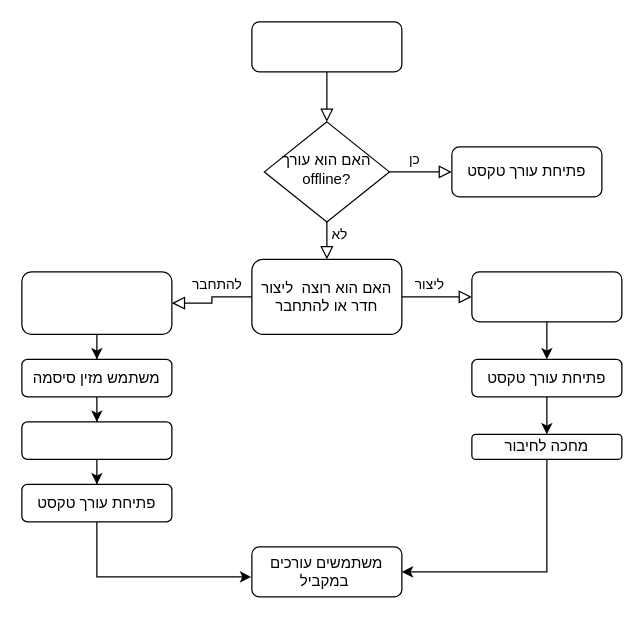
Image size: 644x619. Some labels were removed from this diagram. Each missing label, with the centre of its shape:
"חיבור נוצר בין המשתמשים" belongs at point 96,440.
"יצירת חדר ורשימה שלו בשרת" belongs at point 546,296.
"משתמש מקבל רשימת חדרים מהשרת ובוחר חדר" belongs at point 96,302.
"משתמש נכנס" belongs at point 326,46.
